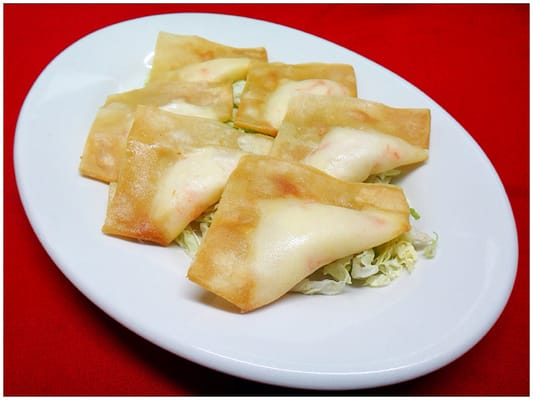curry: (7, 6, 528, 394)
